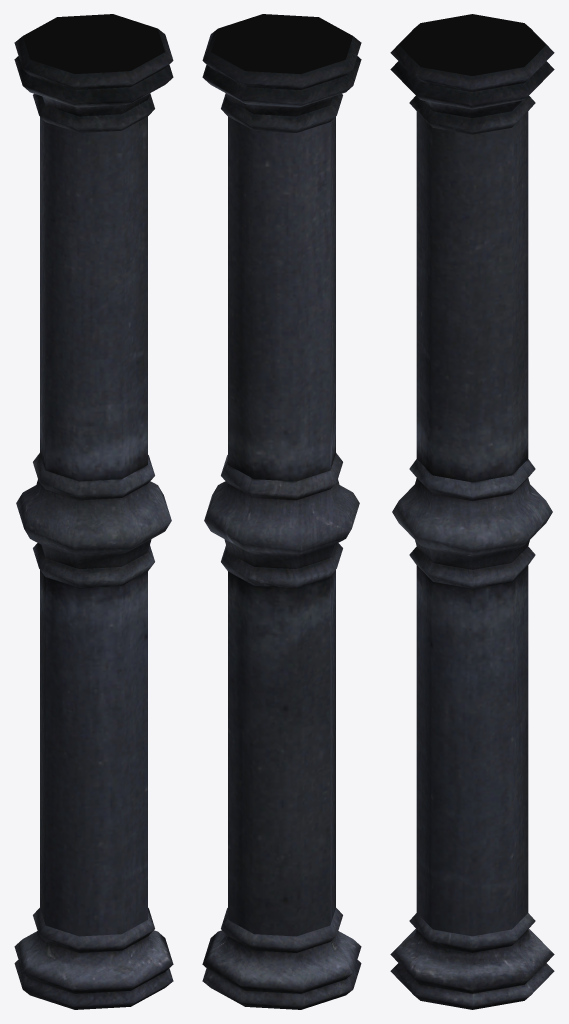
Rendered from pillar02_blue.dae.
3 renders of one model, left to right at view 1: azimuth 30°, elevation 25°; view 2: azimuth 150°, elevation 25°; view 3: azimuth 270°, elevation 25°, orthographic.
Parts seen in each view (by area): view 1: pillar02; view 2: pillar02; view 3: pillar02.
Boxes of the visible parts, x1,y1,x2,y2 form: pillar02: (14, 14, 173, 1009); pillar02: (202, 14, 361, 1009); pillar02: (390, 14, 554, 1009).
Size of the model in its own units: 0.638 by 4 by 0.638.
